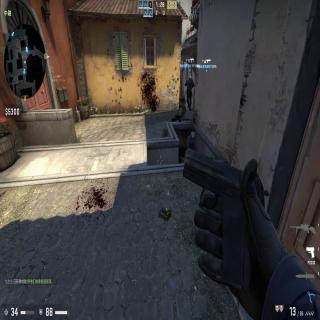CT-Body: (184, 74, 194, 110)
CT-Head: (188, 74, 192, 78)
